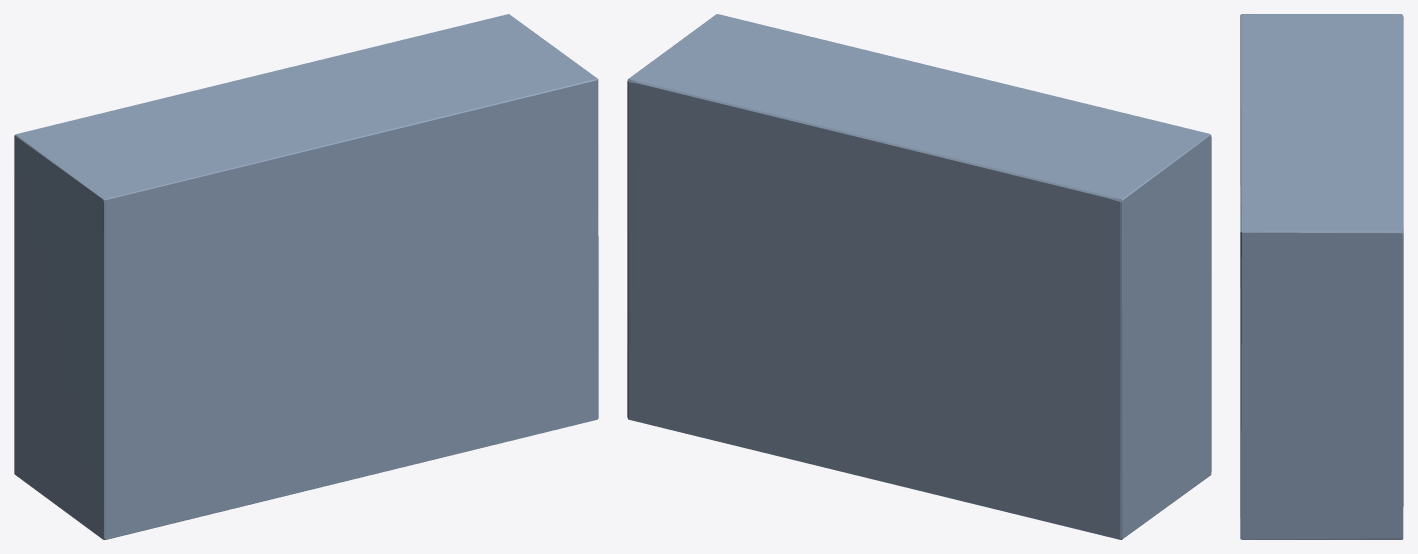
The model's file is box_glove_a01.glb.
3 renders of one model, left to right at view 1: azimuth 30°, elevation 25°; view 2: azimuth 150°, elevation 25°; view 3: azimuth 270°, elevation 25°, orthographic. The views are drawn at different scales.
Parts seen in each view (by area): view 1: geometry_0; view 2: geometry_0; view 3: geometry_0.
Boxes of the visible parts, x1,y1,x2,y2 form: geometry_0: (14,14,598,539); geometry_0: (627,14,1211,539); geometry_0: (1240,14,1403,539).
Bounding box in the file's own units: 0.48 × 0.3157 × 0.1515.
